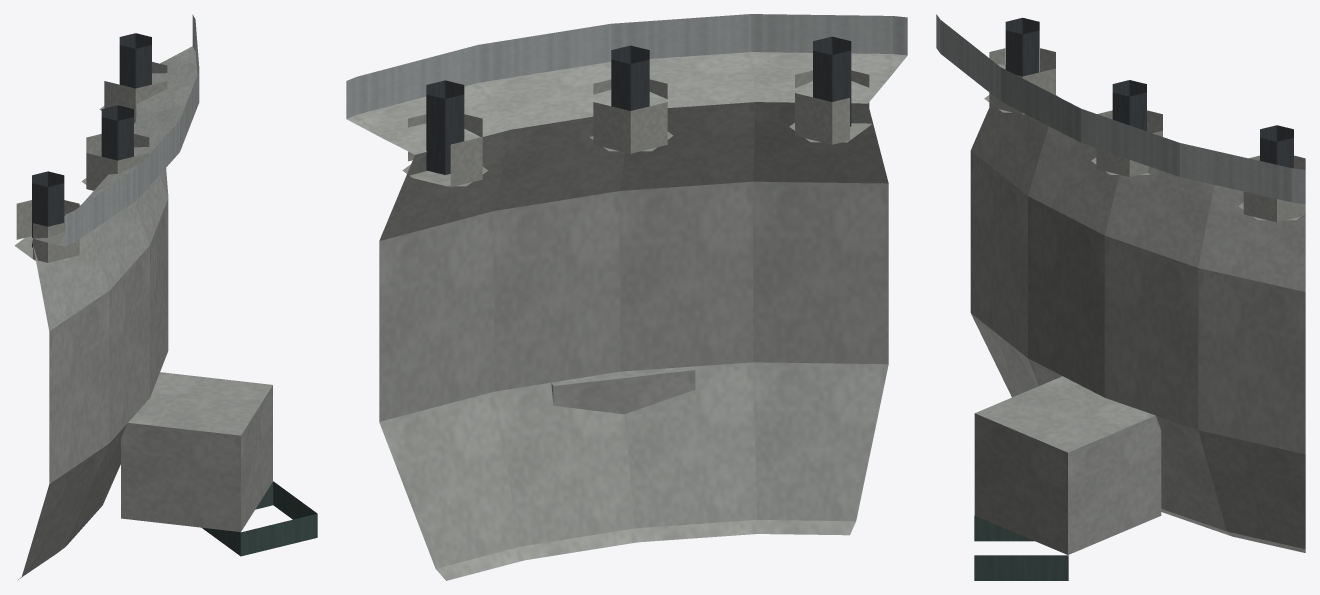
Rendered from cell_68.obj.
3 views of the same model, side by side, from view 1: azimuth 30°, elevation 25°; view 2: azimuth 150°, elevation 25°; view 3: azimuth 270°, elevation 25° (orthographic). The views are drawn at different scales.
Bounding box in the file's own units: 0.7835 × 1 × 0.7835.
